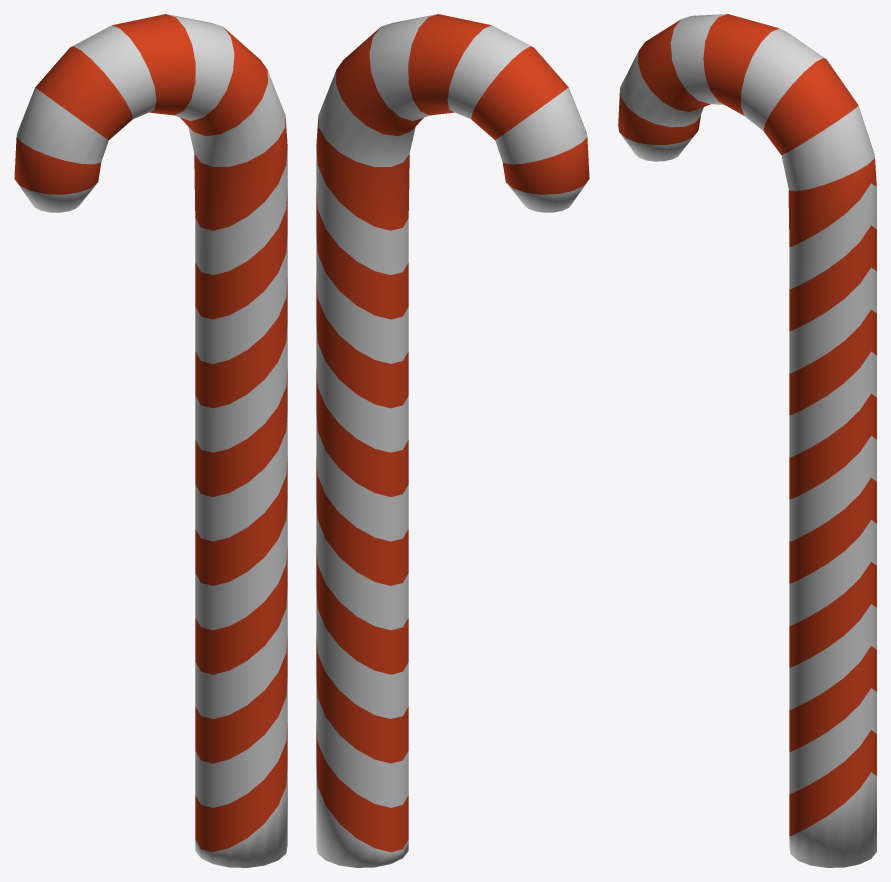
The model's file is candy_cane_wr1.fbx.
The picture shows the model from 3 angles, left to right: view 1: azimuth 30°, elevation 25°; view 2: azimuth 150°, elevation 25°; view 3: azimuth 330°, elevation 25°; orthographic projection. The views are drawn at different scales.
Parts seen in each view (by area): view 1: Cylinder; view 2: Cylinder; view 3: Cylinder.
Boxes of the visible parts, x1,y1,x2,y2 form: Cylinder: (14,14,287,867); Cylinder: (316,14,589,867); Cylinder: (618,14,876,867).
Size of the model in its own units: 617 by 1913 by 208.
